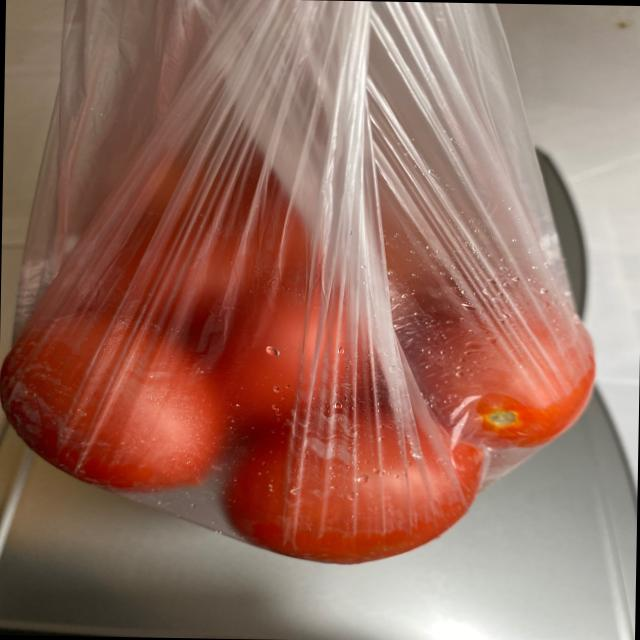tomato: (9, 158, 596, 556)
